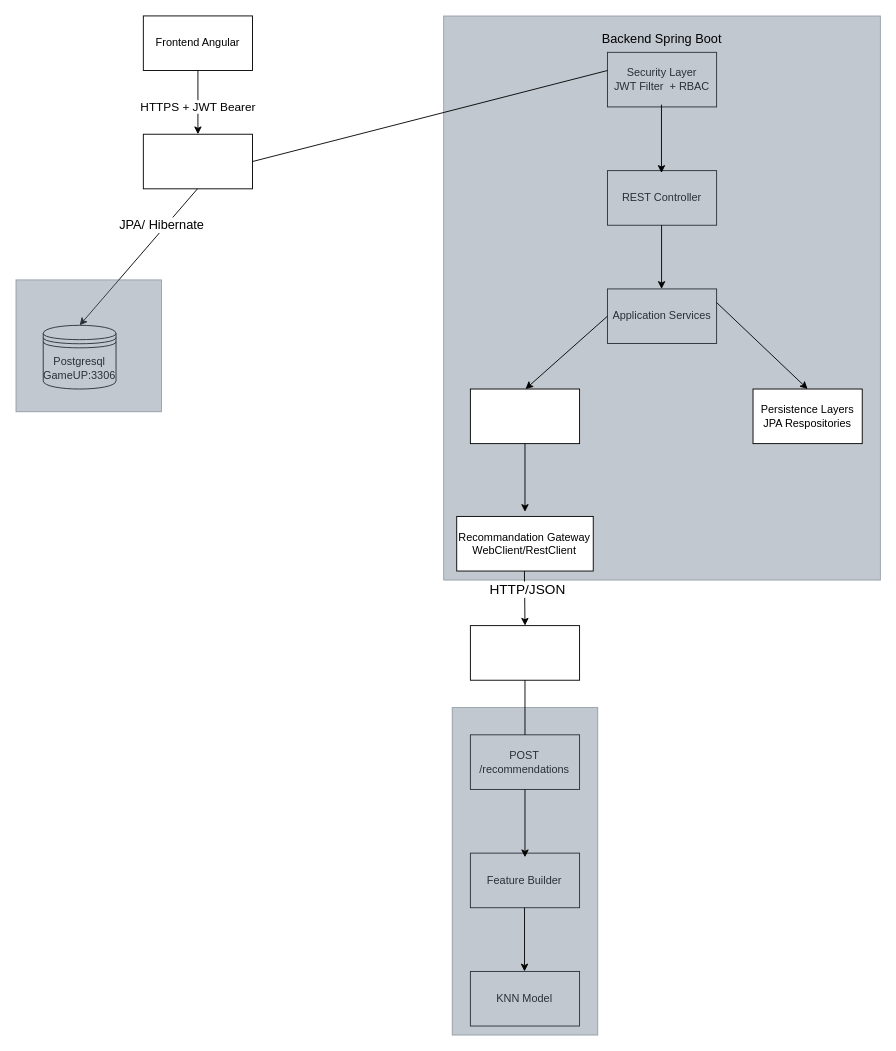
Image size: 896x1051. Some labels were removed from this diagram. Each missing label, with the box of its shape:
Api FastAPI :8000: (469, 625, 580, 680)
Api Sping Boot :8080: (142, 133, 253, 189)
Databsae: (15, 279, 162, 412)
Recommandation Orchestrator: (469, 388, 580, 444)
Service Recommandation (ML): (451, 707, 598, 1035)
